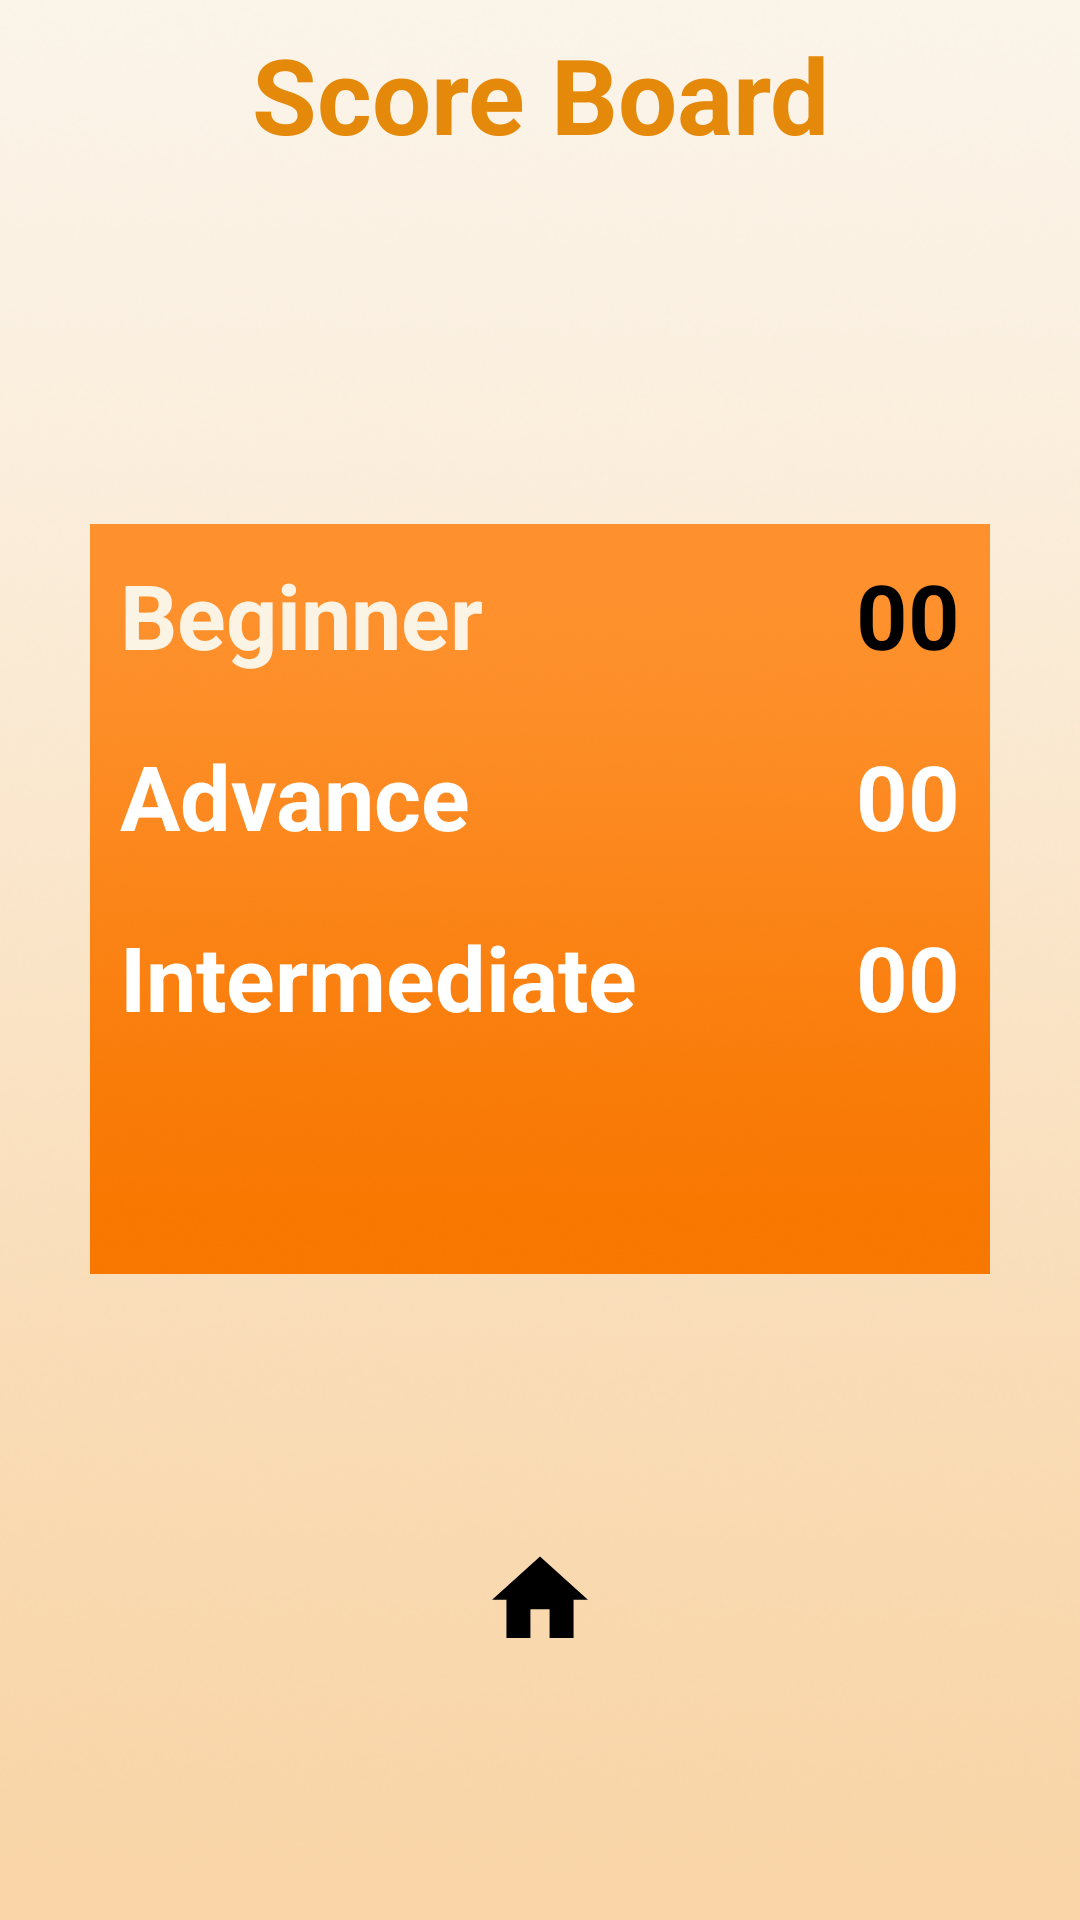

Icon click points for this 1080w x 1920h phone screenshot, format (x,y):
home: (540,1597)
